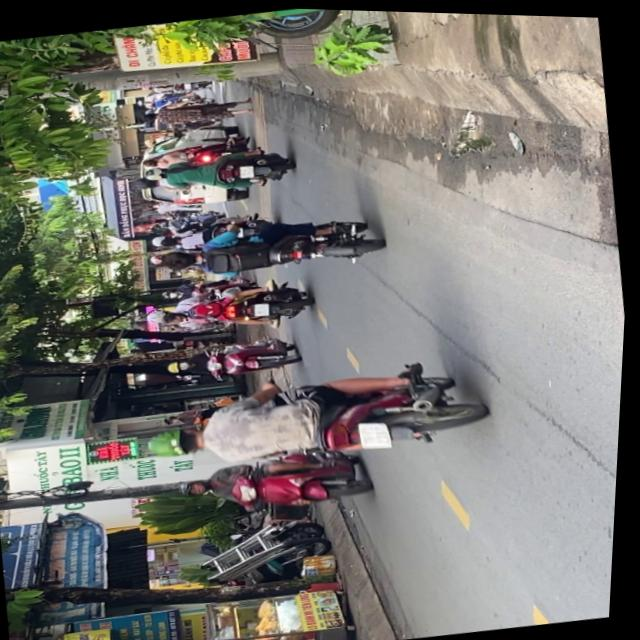helmet: (147, 423, 208, 463), (180, 477, 217, 500), (147, 308, 178, 327), (168, 360, 192, 374)
licenseplate: (138, 345, 495, 488), (146, 203, 389, 291), (177, 441, 378, 528), (143, 272, 318, 343), (165, 330, 305, 389)
motorcyclist: (160, 247, 203, 273), (165, 310, 190, 326)
nohelmet: (361, 419, 395, 450), (255, 302, 272, 316)
